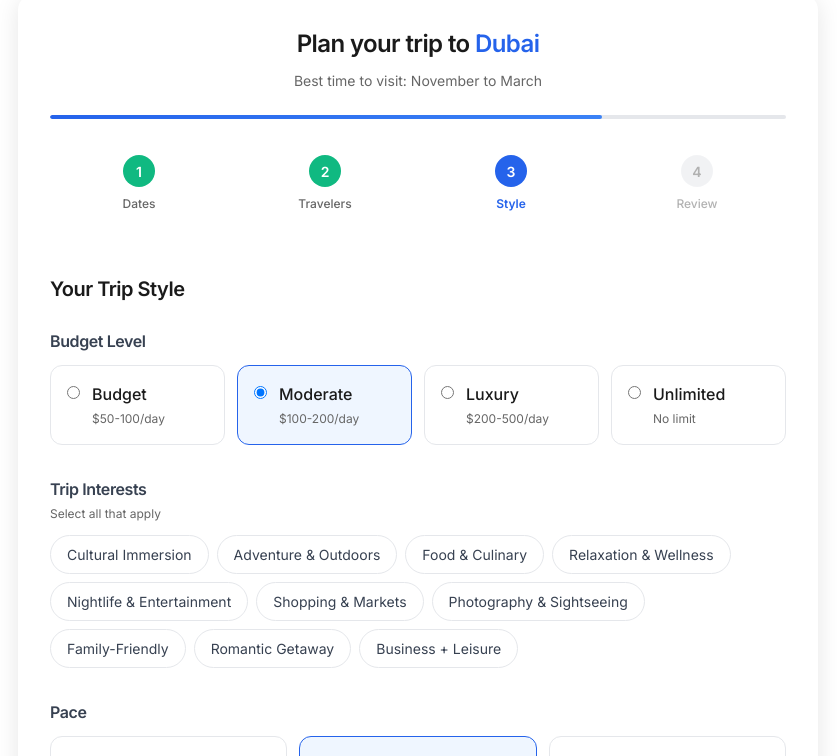
Scenario: TripSetupWizard Integration › Step Tab Navigation › should allow clicking on completed step tabs to go back
Click the tab "1 Dates": (139, 184) [50, 143, 228, 225]
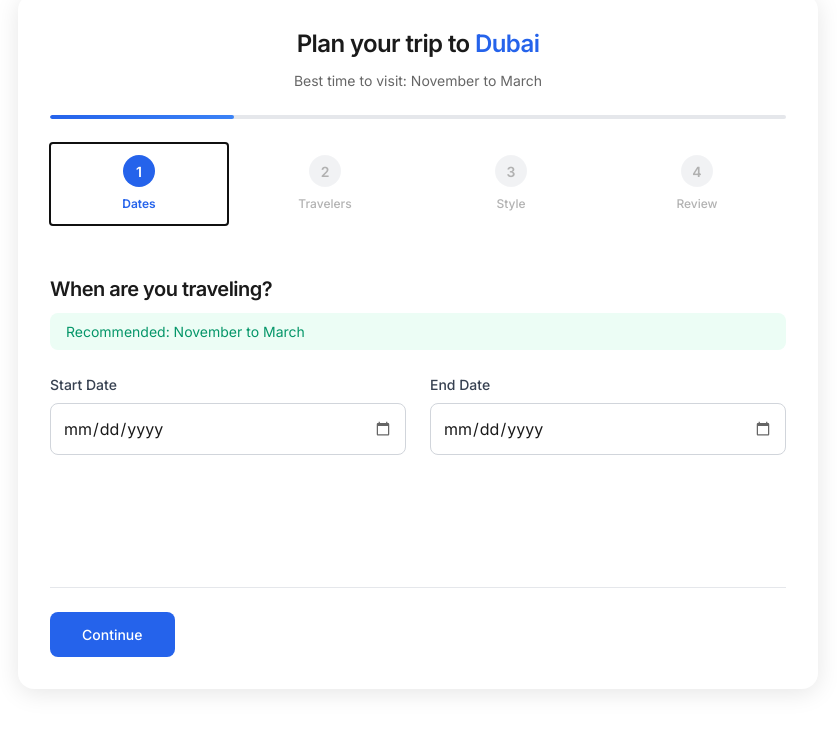
Check: the element with test id "step-dates" is shown, box [50, 257, 786, 487]
